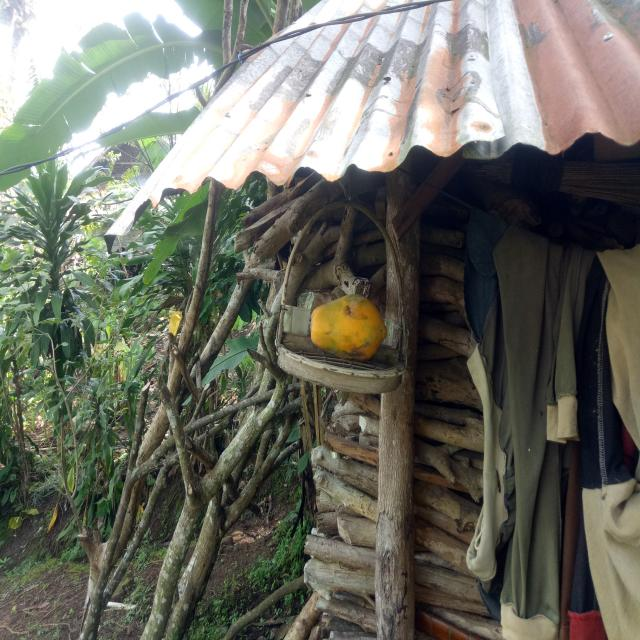Pepaya rippen: (296, 292, 386, 358)
